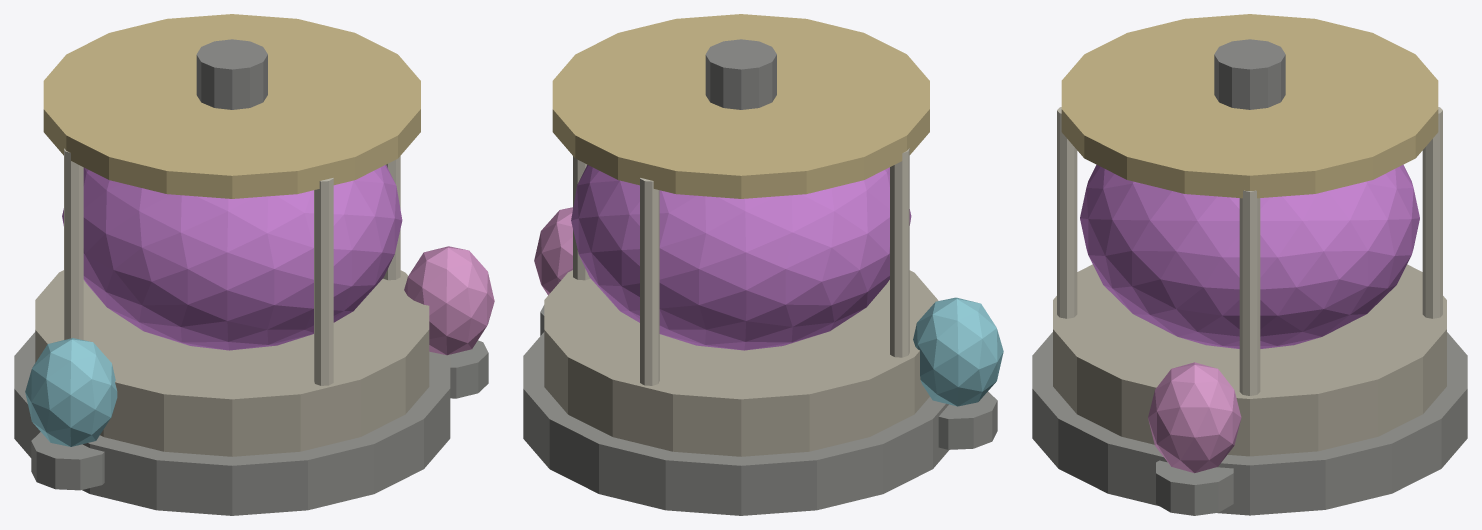
The model's file is laboratory.glb.
3 renders of one model, left to right at view 1: azimuth 30°, elevation 25°; view 2: azimuth 150°, elevation 25°; view 3: azimuth 270°, elevation 25°, orthographic.
Visible parts, largest first — view 1: laboratory_3, laboratory_2, laboratory_1, laboratory_0, laboratory_9, laboratory_11, laboratory_4, laboratory_6, laboratory_7, laboratory_10, laboratory_12, laboratory_5; view 2: laboratory_3, laboratory_1, laboratory_2, laboratory_0, laboratory_9, laboratory_4, laboratory_8, laboratory_7, laboratory_10, laboratory_11, laboratory_5; view 3: laboratory_3, laboratory_2, laboratory_1, laboratory_0, laboratory_11, laboratory_4, laboratory_5, laboratory_6, laboratory_8, laboratory_12.
Boxes of the visible parts, box(x1,y1,x2,y2) form: laboratory_3: box(43, 14, 420, 198); laboratory_2: box(62, 165, 402, 350); laboratory_1: box(35, 270, 429, 456); laboratory_0: box(14, 332, 450, 515); laboratory_9: box(25, 338, 117, 446); laboratory_11: box(404, 246, 494, 355); laboratory_4: box(196, 39, 267, 109); laboratory_6: box(314, 178, 333, 385); laboratory_7: box(64, 148, 83, 339); laboratory_10: box(31, 432, 104, 490); laboratory_12: box(449, 340, 488, 398); laboratory_5: box(383, 156, 400, 280); laboratory_3: box(552, 14, 929, 198); laboratory_1: box(544, 270, 938, 456); laboratory_2: box(571, 165, 911, 350); laboratory_0: box(523, 332, 948, 515); laboratory_9: box(913, 297, 1003, 406); laboratory_4: box(705, 39, 776, 109); laboratory_8: box(640, 178, 659, 385); laboratory_7: box(890, 148, 909, 357); laboratory_10: box(938, 391, 997, 449); laboratory_11: box(534, 207, 572, 295); laboratory_5: box(573, 156, 590, 280); laboratory_3: box(1061, 14, 1438, 198); laboratory_2: box(1080, 164, 1419, 348); laboratory_1: box(1053, 264, 1446, 456); laboratory_0: box(1032, 332, 1467, 515); laboratory_11: box(1148, 362, 1241, 473); laboratory_4: box(1214, 39, 1285, 109); laboratory_5: box(1239, 190, 1260, 395); laboratory_6: box(1057, 107, 1077, 318); laboratory_8: box(1422, 107, 1442, 318); laboratory_12: box(1156, 460, 1233, 515).
Size of the model in its own units: 6.2 by 4.77 by 5.12.
